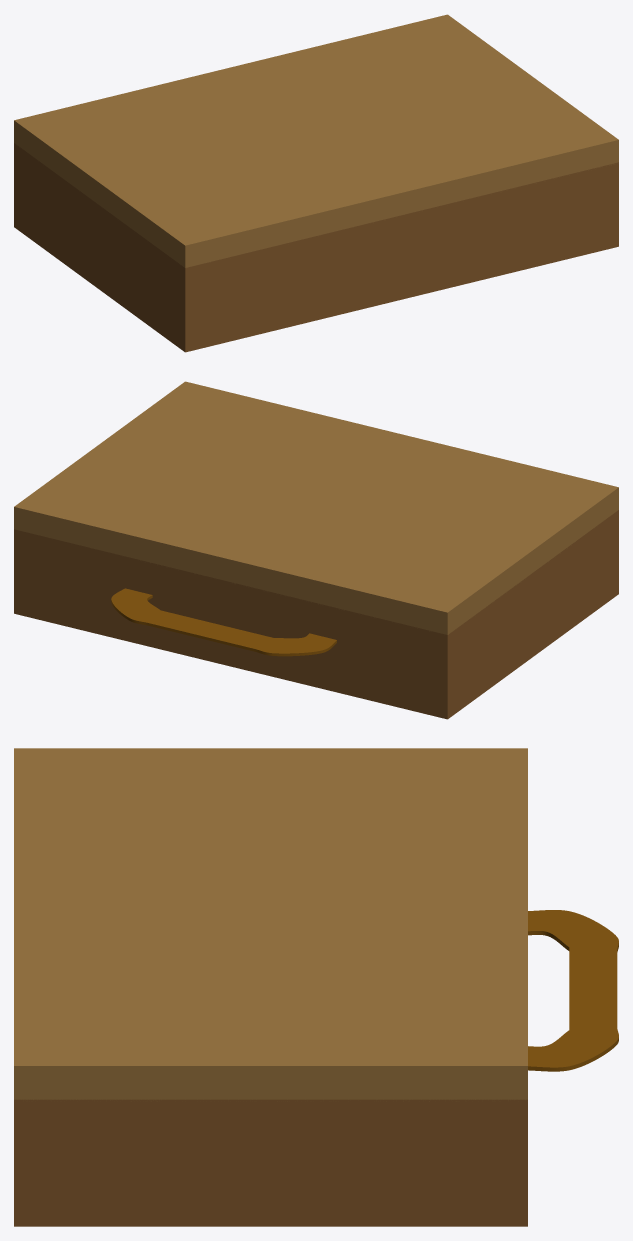
The picture shows the model from 3 angles, top to bottom: view 1: azimuth 30°, elevation 25°; view 2: azimuth 150°, elevation 25°; view 3: azimuth 270°, elevation 25°; orthographic projection. The views are drawn at different scales.
Visible parts, largest first — view 1: case; view 2: case; view 3: case.
Boxes of the visible parts, <box> form: case: <box>14,14,618,352</box>; case: <box>14,381,618,719</box>; case: <box>14,748,618,1226</box>.
Size of the model in its own units: 0.5 by 0.1177 by 0.4024.
